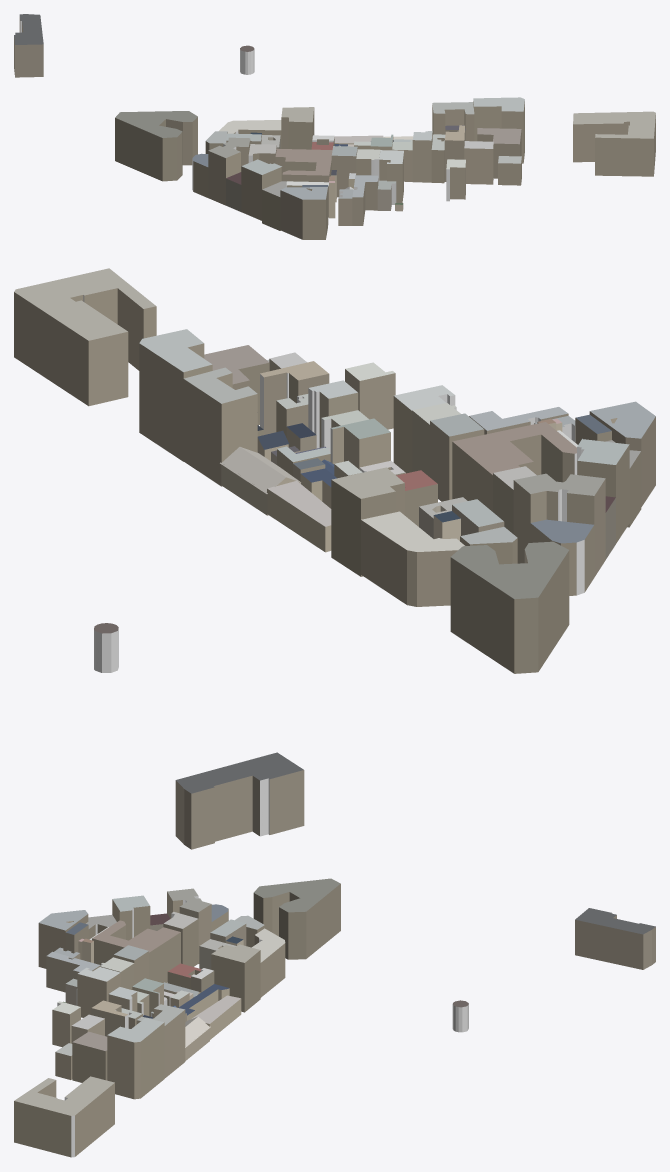
3 views of the same model, one above another, from view 1: azimuth 30°, elevation 25°; view 2: azimuth 150°, elevation 25°; view 3: azimuth 270°, elevation 25° (orthographic). The views are drawn at different scales.
Parts seen in each view (by area): view 1: tuile; view 2: tuile; view 3: tuile.
Boxes of the visible parts, box(x1,y1,x2,y2) form: tuile: box(14, 14, 655, 239); tuile: box(14, 268, 655, 849); tuile: box(14, 878, 655, 1157).
Size of the model in its own units: 237 by 30.46 by 285.
